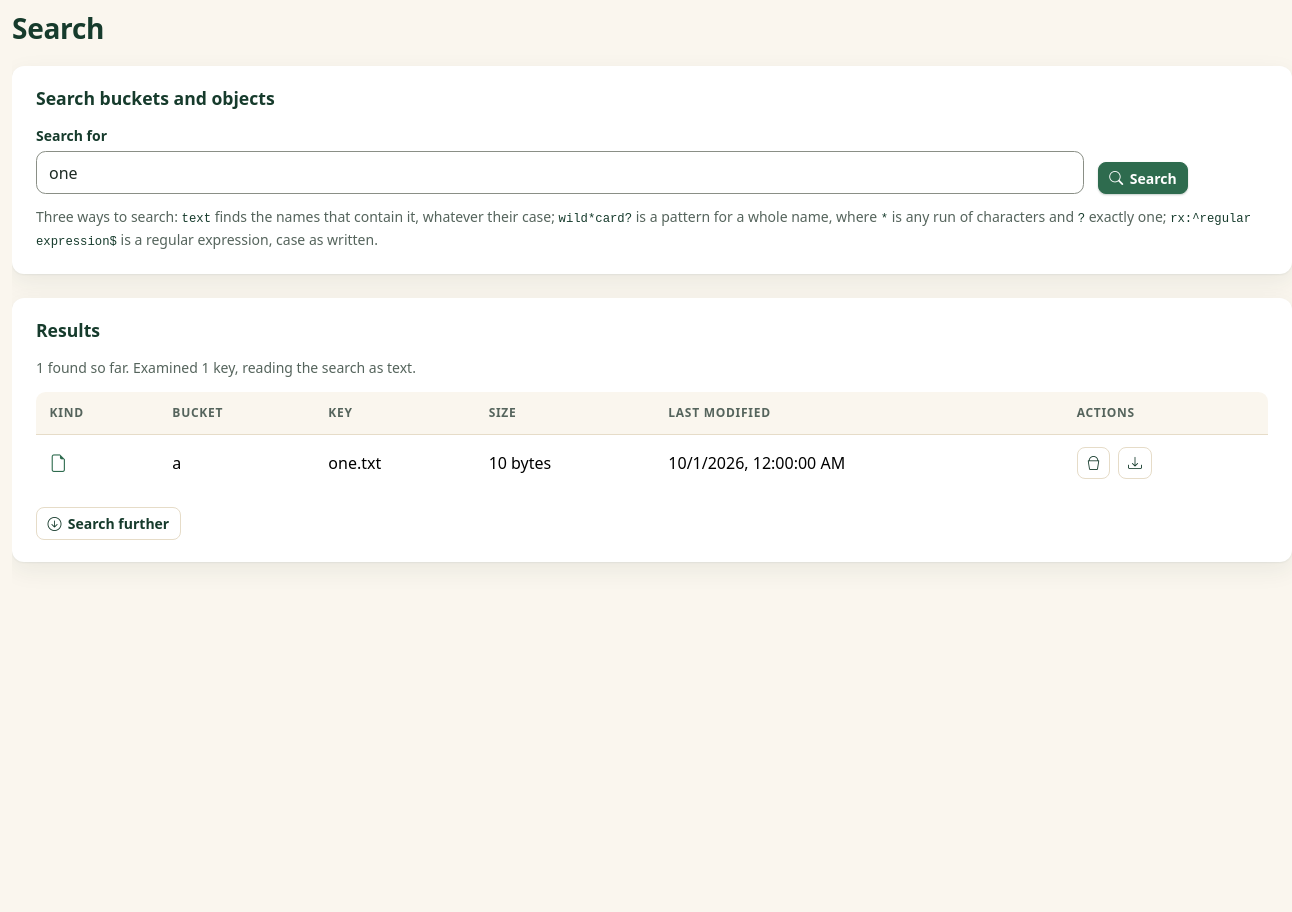
Test: search › forgets why a further page failed when the same search is sent again
Expected: the link named "Download one.txt" is shown, [1118,447,1152,479]
Click the button "Search further" at (108, 524), box [36,507,181,540]
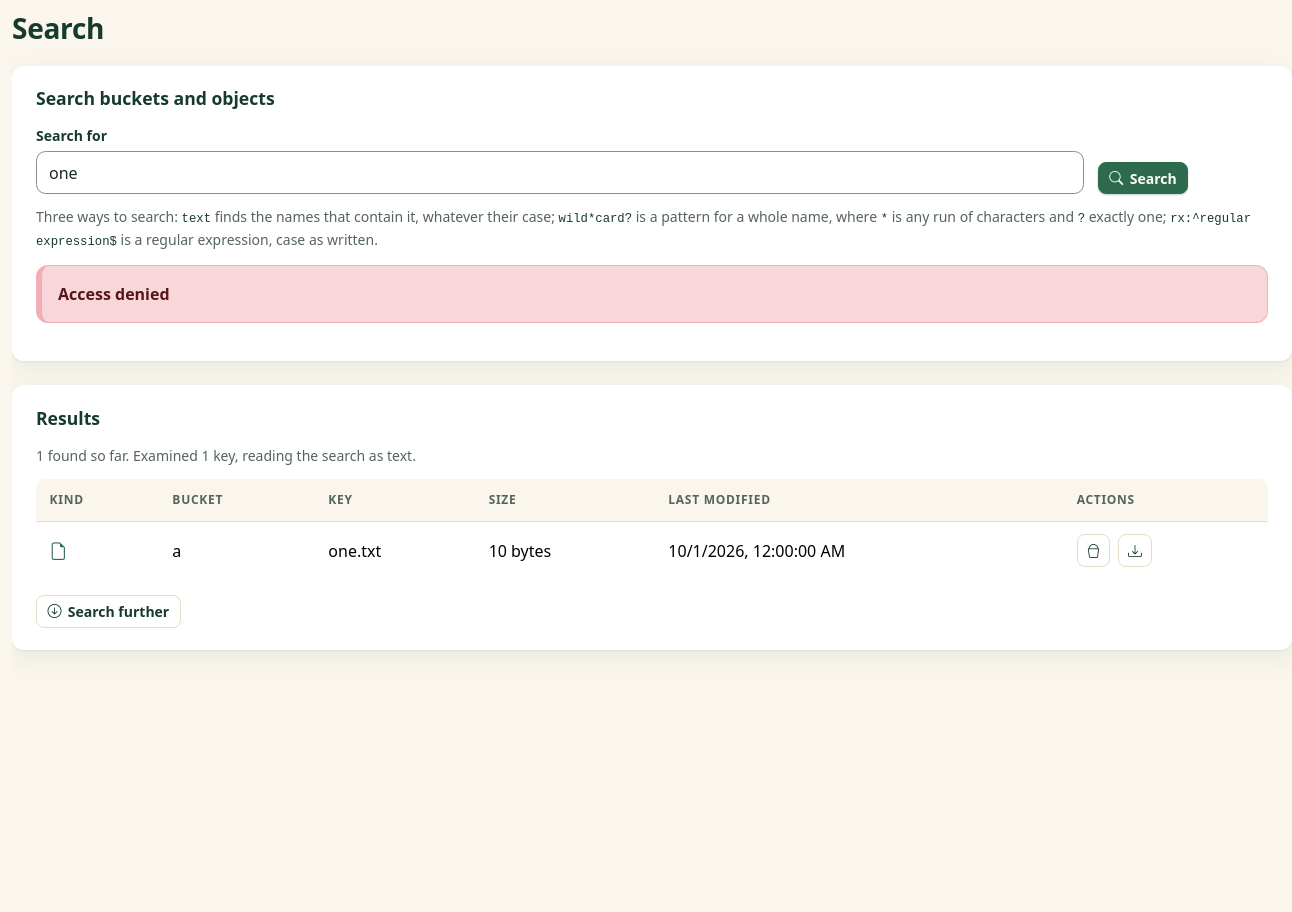
Expected: the message "Access denied" is shown, [36,265,1268,323]
Click the button "Search" at (1143, 178), box [1098,162,1188,194]
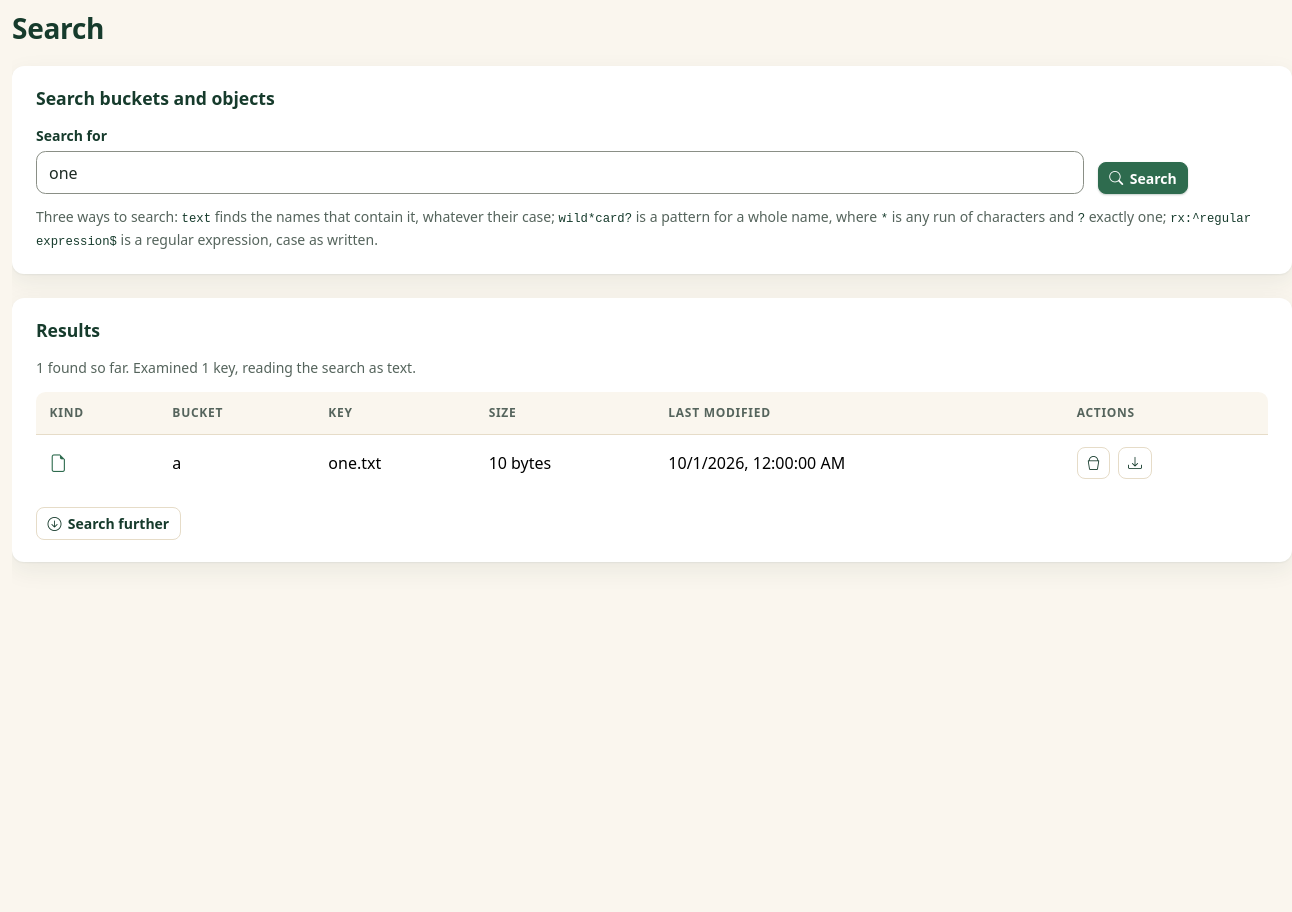
Expected: the link named "Download one.txt" is shown, [1118,447,1152,479]
Expected: the message "Access denied" is gone
